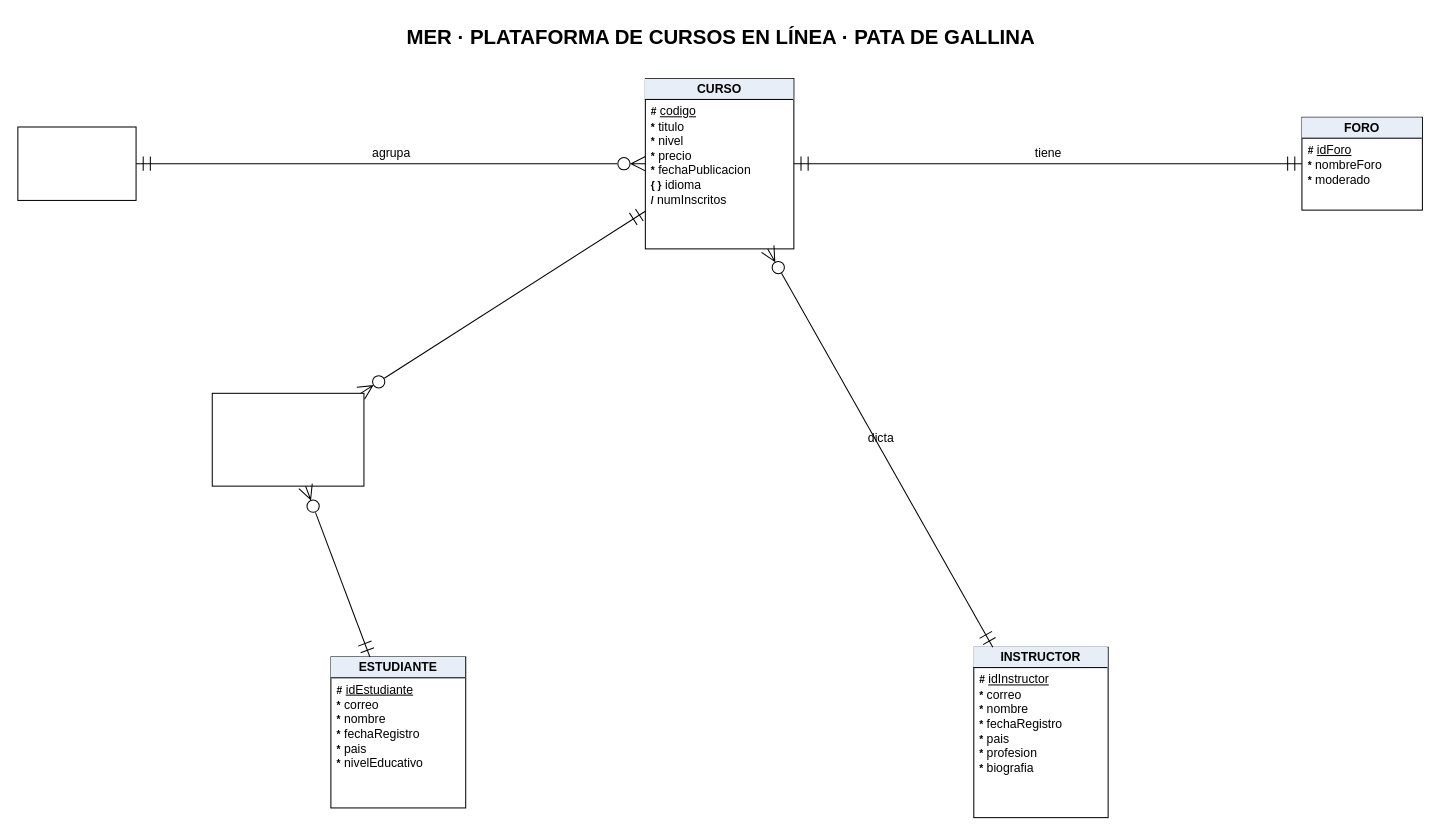
Image size: 1440x836. Some labels were removed from this diagram. Here are the shapes that lost their labels. From the top down, the box of each, then its label:
(17, 126, 136, 200): CATEGORIA # idCategoria * nombre
(211, 392, 364, 486): INSCRIBIR * fechaInscripcion * progreso * calificacion
